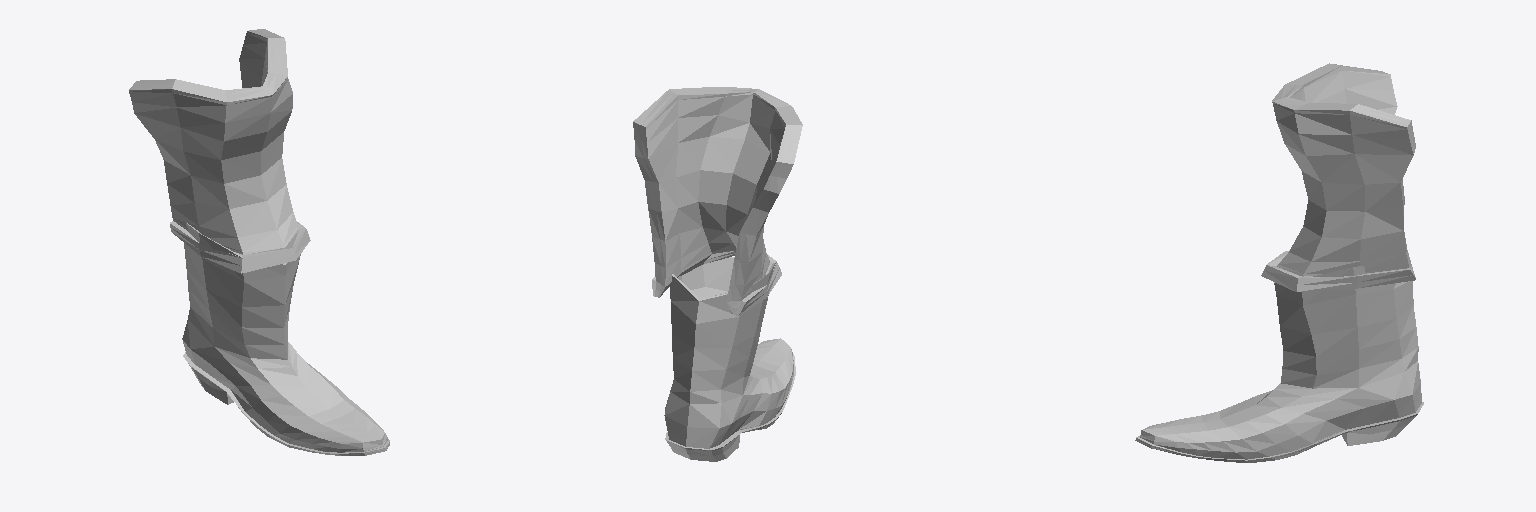
The model's file is downfoot1.obj.
3 renders of one model, left to right at view 1: azimuth 30°, elevation 25°; view 2: azimuth 150°, elevation 25°; view 3: azimuth 270°, elevation 25°, orthographic.
Visible parts, largest first — view 1: superman:polySurface8; view 2: superman:polySurface8; view 3: superman:polySurface8.
Boxes of the visible parts, <box> form: superman:polySurface8: <box>129,29,389,455</box>; superman:polySurface8: <box>633,87,802,461</box>; superman:polySurface8: <box>1135,63,1423,462</box>.
Bounding box in the file's own units: 1.55 × 3.42 × 2.54.